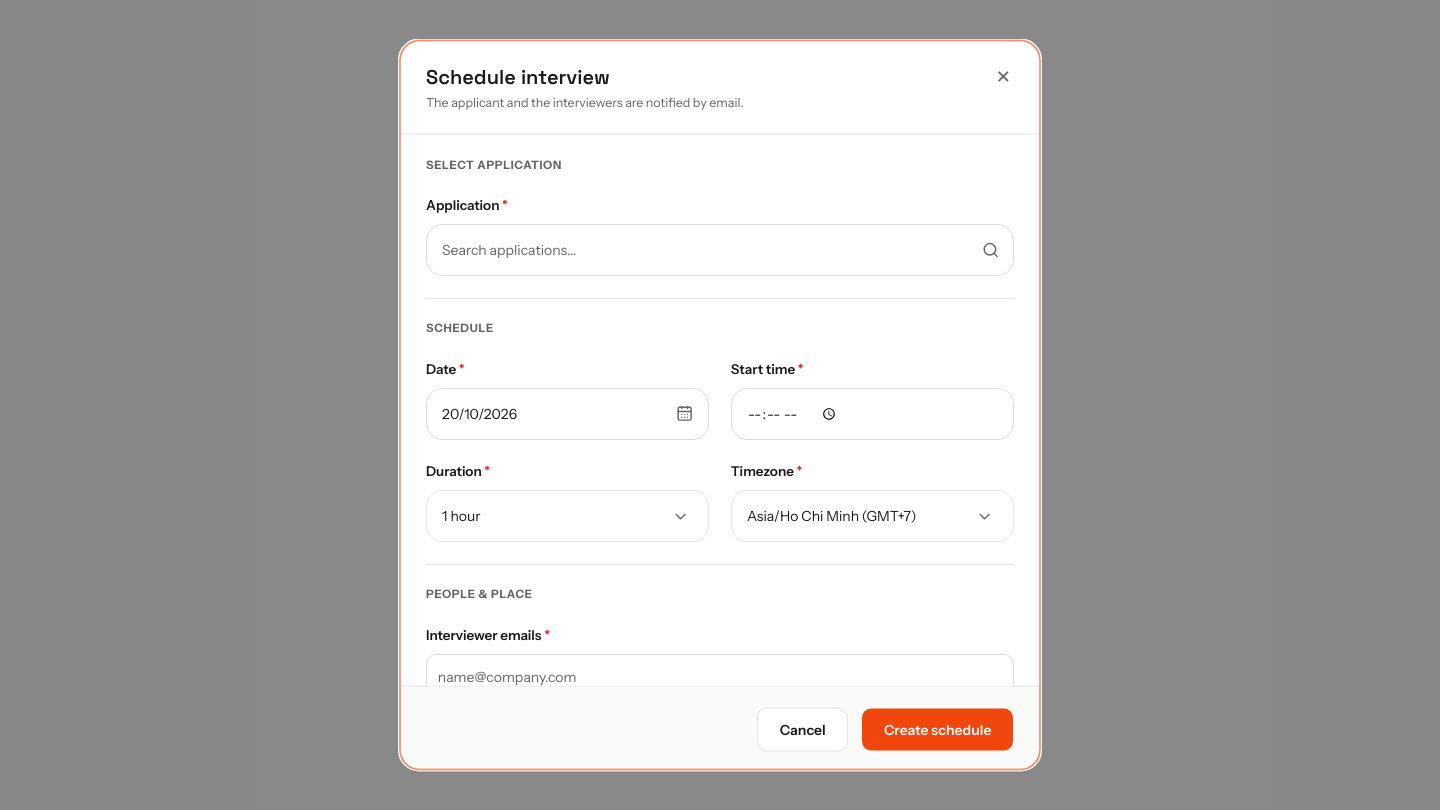
Test case: Schedule interview dialog › when the API refuses › says the applicant is busy
Click the dropdown labelled "Application *". click: coordinates (720, 250)
box: [426,224,1014,276]
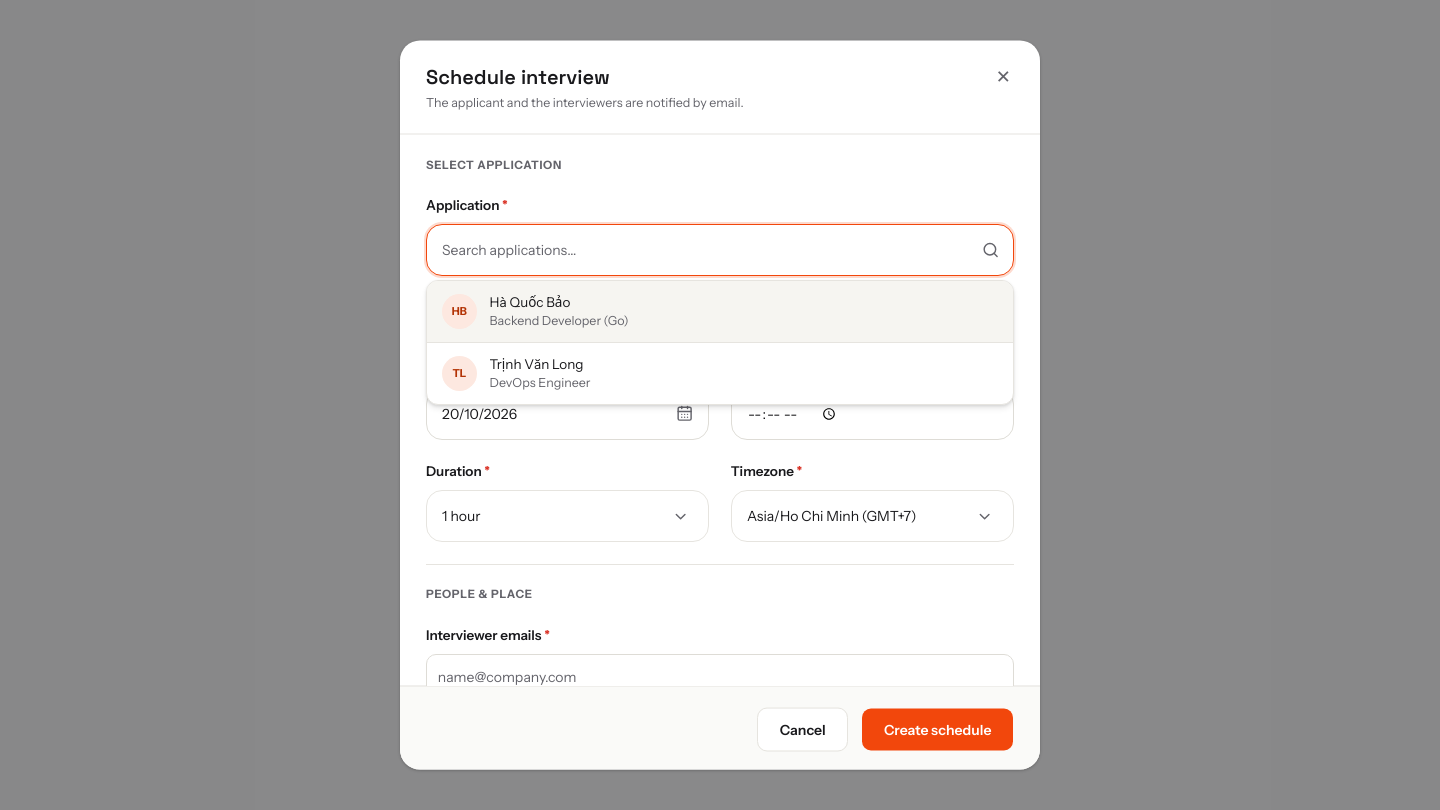
Click the option "HB Hà Quốc Bảo Backend Developer (Go)". click: coordinates (459, 311)
box: [427,281,1013,342]
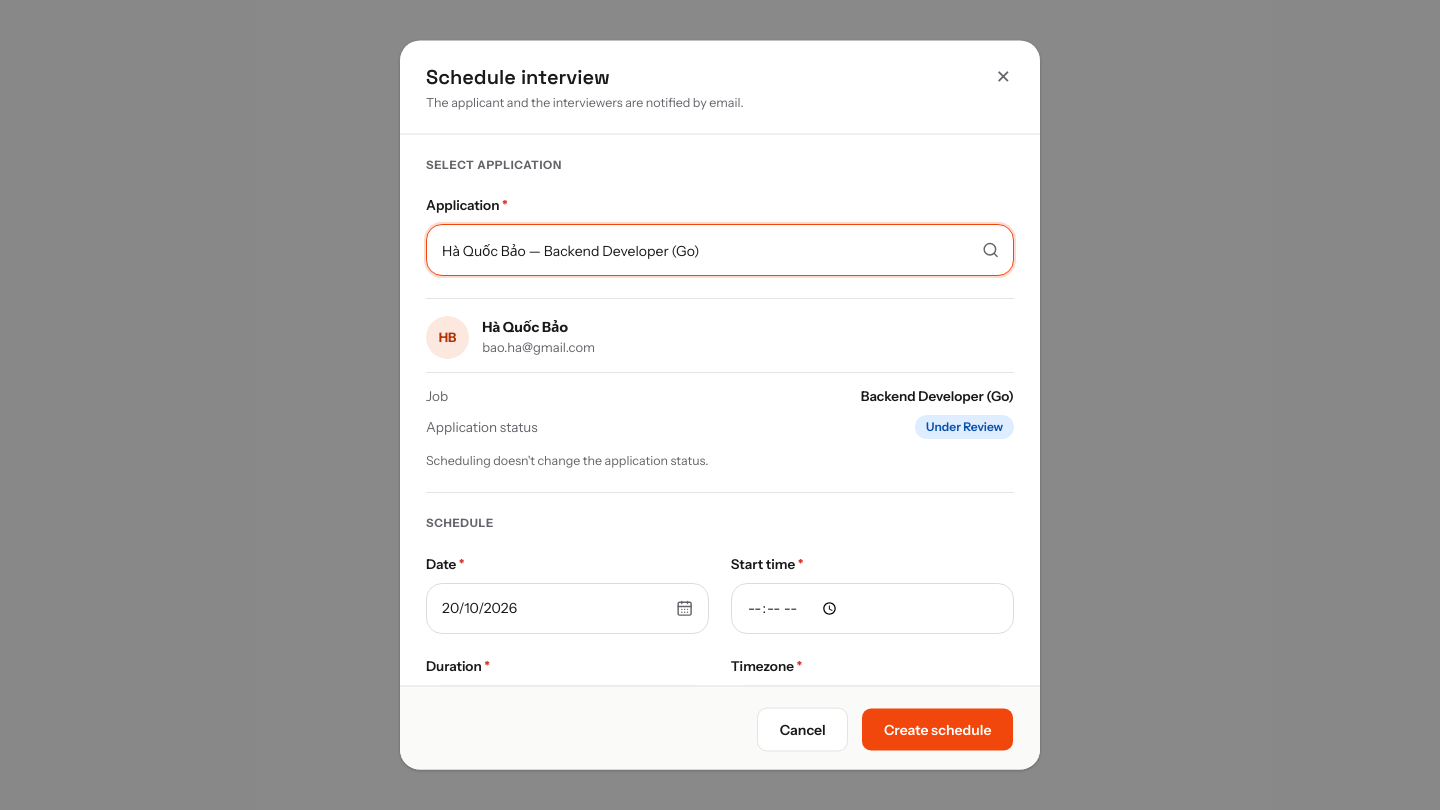
Type "10:00" into the time field labelled "Start time *". click: coordinates (872, 608)
box: [731,582,1014,634]
(page scrolled)
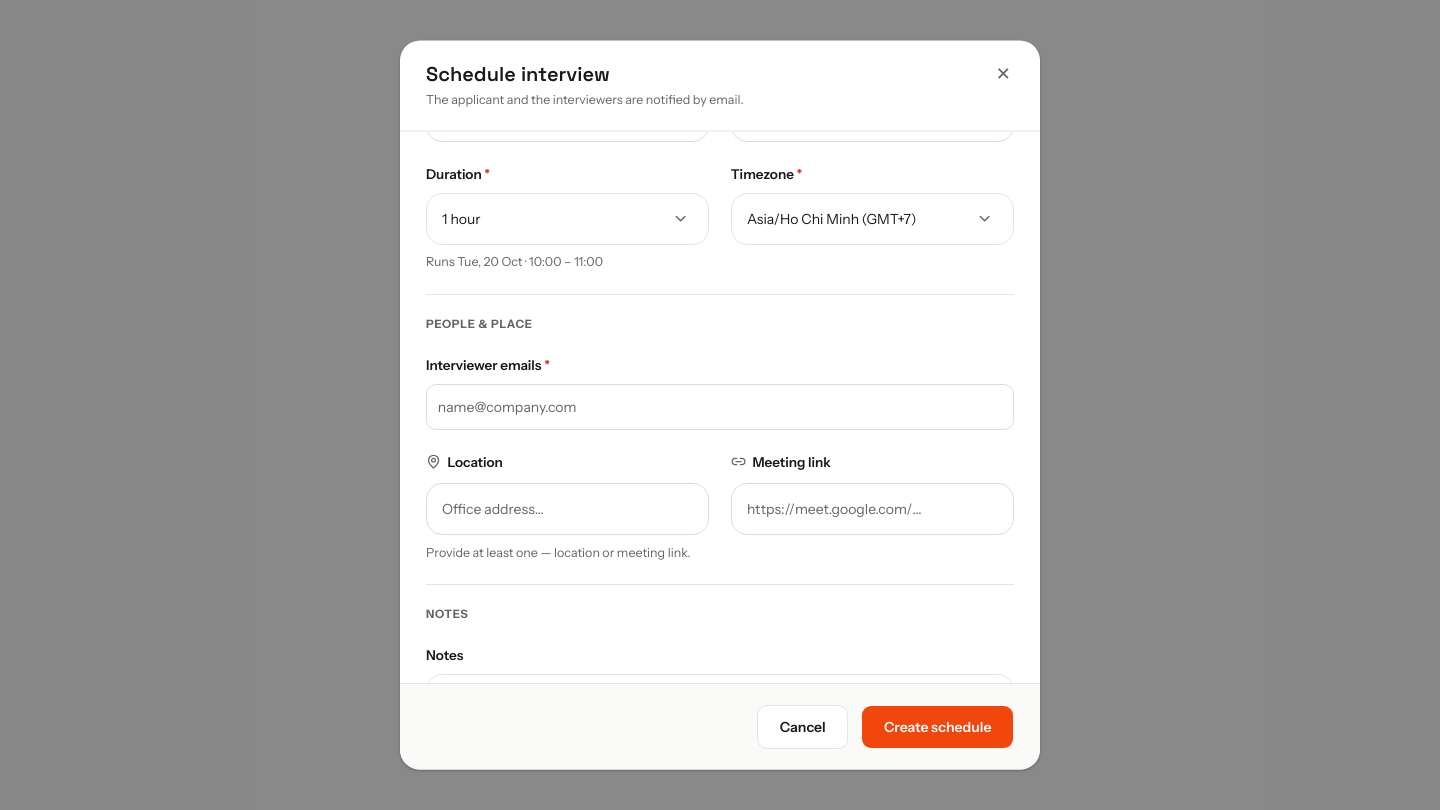
Type "nam.bui@novafintech.vn" into the field labelled "Interviewer emails *". click: coordinates (720, 406)
box: [438,392,1002,421]
Then press Enter
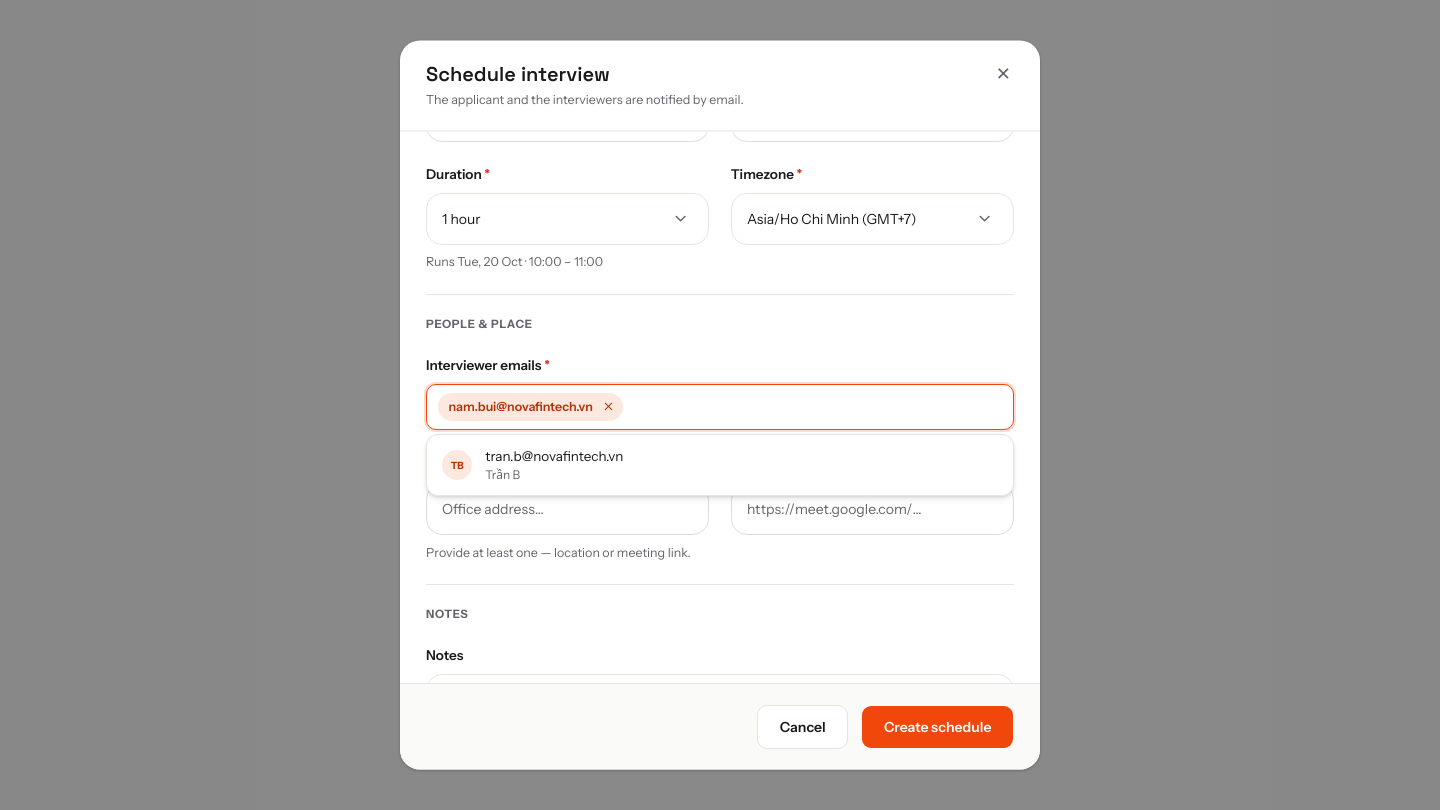
expect the text "nam.bui@novafintech.vn" is shown: met, box [449,397,593,416]
Type "https://meet.google.com/kqr-pmzt-bvx" into the field labelled "Meeting link". click: coordinates (872, 508)
box: [731,483,1014,534]
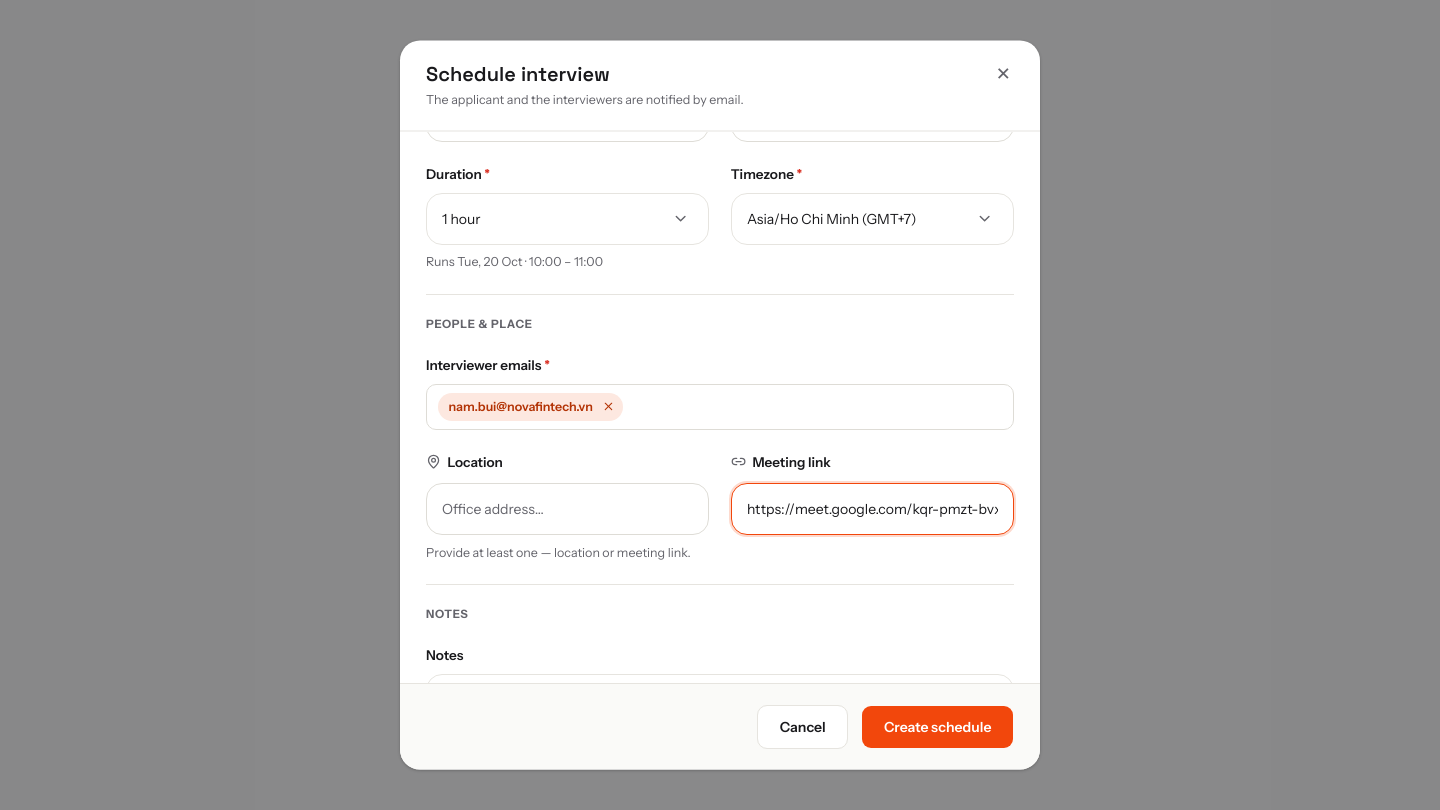
Click the button "Create schedule". click: coordinates (938, 726)
box: [861,705,1014,748]
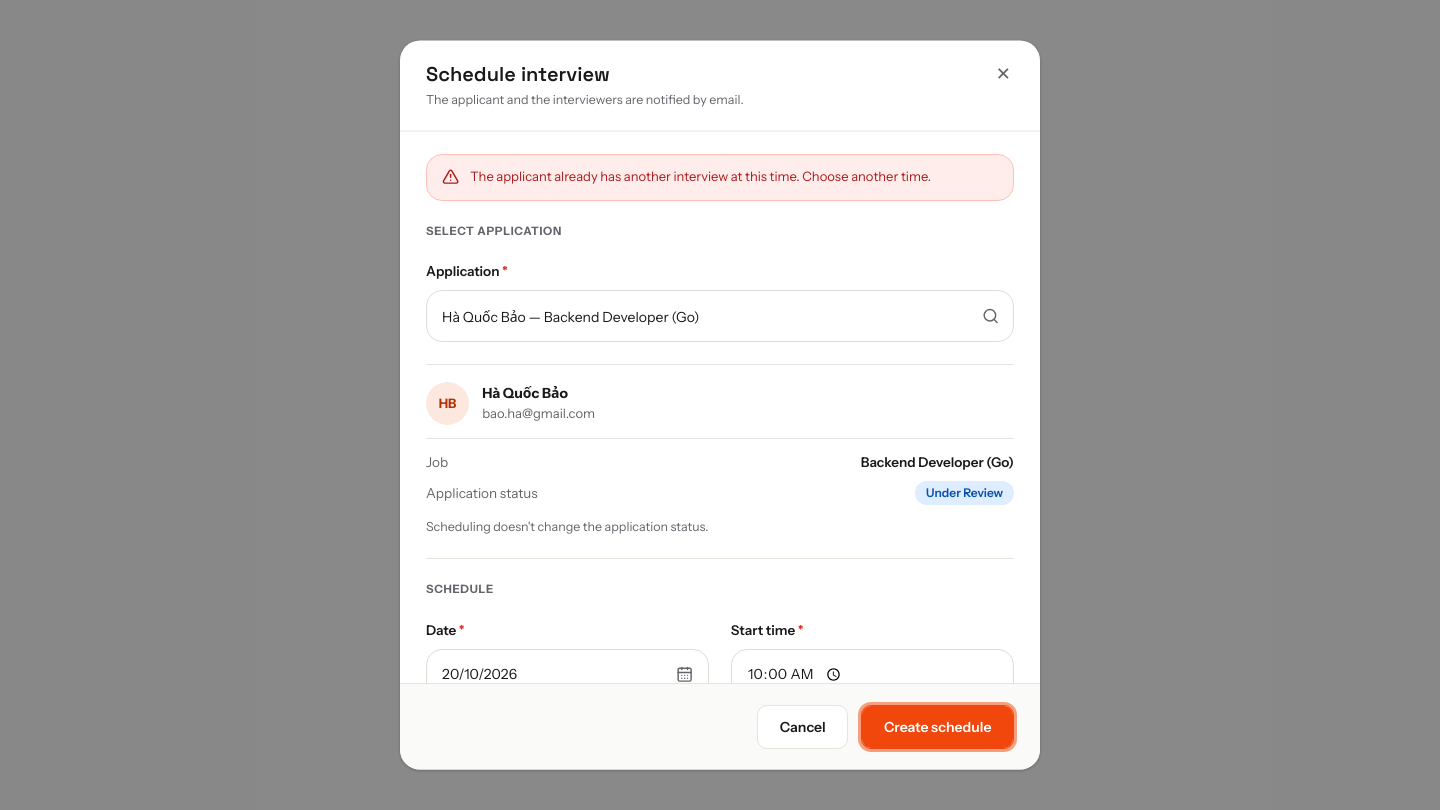
expect the text "The applicant already has another interview at this time. Choose another time." is shown: met, box [470,167,998,186]
